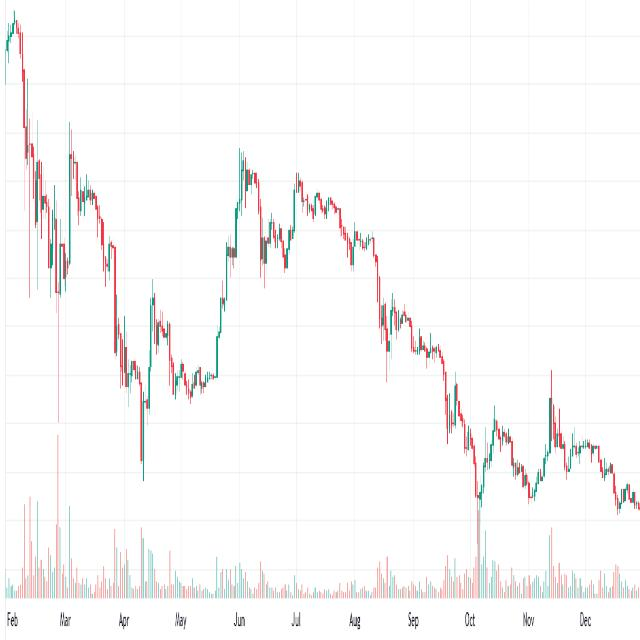Channel-down: (9, 82, 83, 328)
Descending-Triangle: (433, 330, 572, 509), (145, 284, 242, 401)
Falling-Wedge: (0, 22, 640, 550)
